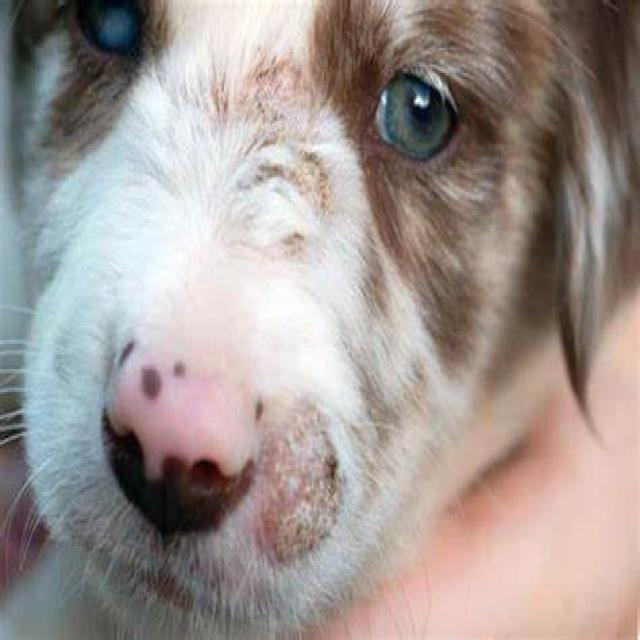fungal infection: (230, 52, 338, 244), (263, 408, 345, 572)
